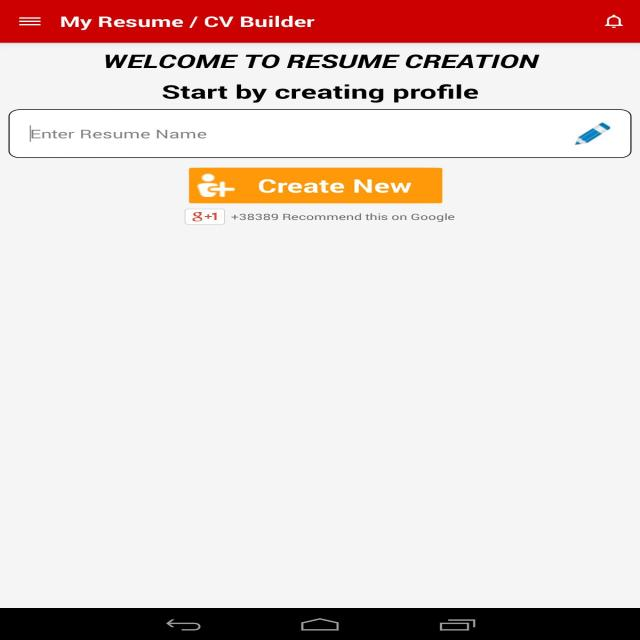button: (189, 168, 442, 202), (571, 120, 615, 148), (602, 11, 628, 34), (16, 13, 44, 31)
field: (9, 110, 631, 157)
heading: (94, 49, 546, 75), (159, 82, 487, 105), (56, 12, 319, 32)
label: (24, 121, 210, 148)
text: (228, 210, 457, 224)
